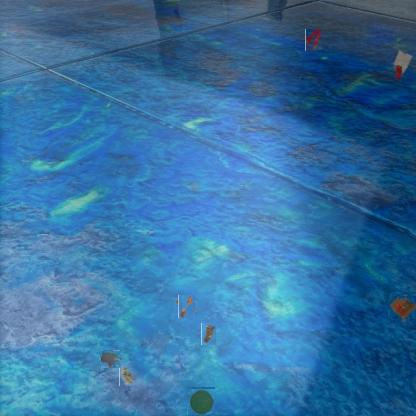dirty: (187, 388, 215, 416), (389, 293, 416, 320), (394, 48, 416, 80), (177, 296, 197, 317), (119, 364, 136, 386), (201, 323, 216, 345)
liquid: (305, 30, 322, 52), (100, 350, 120, 368)
